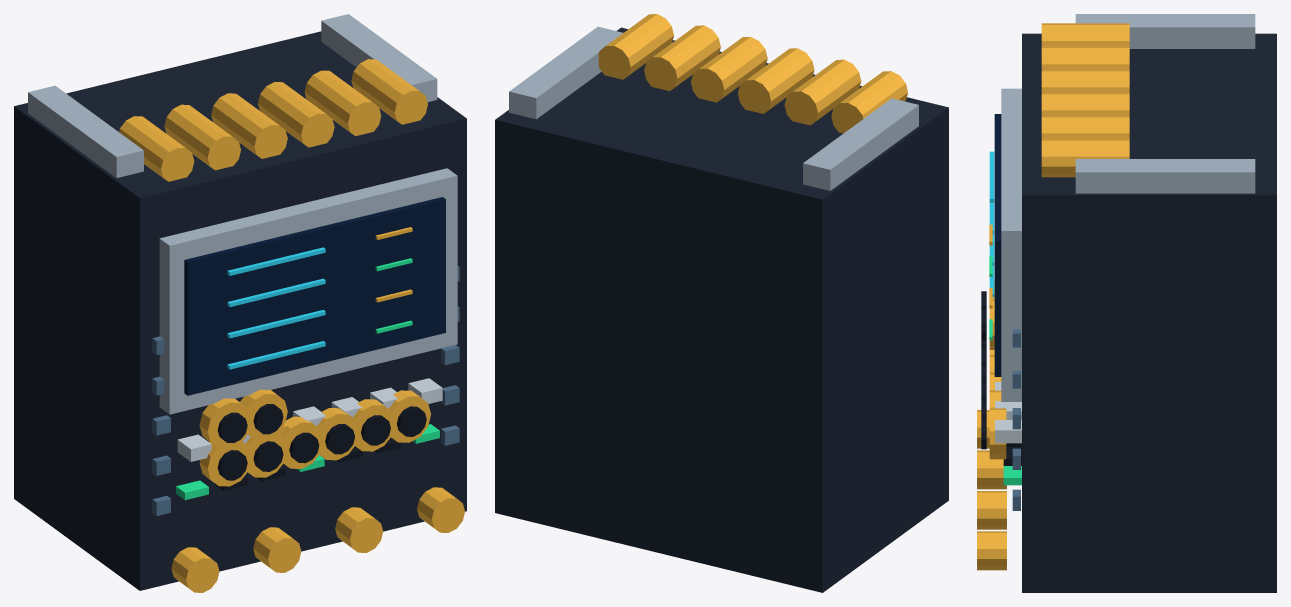
File: 32_L85_ThrusterValveDriverRack.fbx
The picture shows the model from 3 angles, left to right: view 1: azimuth 30°, elevation 25°; view 2: azimuth 150°, elevation 25°; view 3: azimuth 270°, elevation 25°; orthographic projection.
Parts seen in each view (by area): view 1: L85_ThrusterValveDriverRack, L85_ThrusterValveDriverRack_Part_0022, L85_ThrusterValveDriverRack_Part_0010, L85_ThrusterValveDriverRack_Part_0016, L85_ThrusterValveDriverRack_Part_0020, L85_ThrusterValveDriverRack_Part_0024, L85_ThrusterValveDriverRack_Part_0018, L85_ThrusterValveDriverRack_Part_0014, L85_ThrusterValveDriverRack_Part_0012, L85_ThrusterValveDriverRack_Part_0017, L85_ThrusterValveDriverRack_Part_0013, L85_ThrusterValveDriverRack_Part_0019 (+5 smaller); view 2: L85_ThrusterValveDriverRack; view 3: L85_ThrusterValveDriverRack, L85_ThrusterValveDriverRack_Part_0020.
Part boxes in pixels (<box>): L85_ThrusterValveDriverRack: <box>14,14,466,592</box>; L85_ThrusterValveDriverRack_Part_0022: <box>199,398,251,448</box>; L85_ThrusterValveDriverRack_Part_0010: <box>199,440,251,486</box>; L85_ThrusterValveDriverRack_Part_0016: <box>316,408,359,460</box>; L85_ThrusterValveDriverRack_Part_0020: <box>388,390,430,442</box>; L85_ThrusterValveDriverRack_Part_0024: <box>240,389,287,439</box>; L85_ThrusterValveDriverRack_Part_0018: <box>353,399,394,451</box>; L85_ThrusterValveDriverRack_Part_0014: <box>281,416,323,468</box>; L85_ThrusterValveDriverRack_Part_0012: <box>245,431,287,477</box>; L85_ThrusterValveDriverRack_Part_0017: <box>325,424,354,454</box>; L85_ThrusterValveDriverRack_Part_0013: <box>253,441,283,471</box>; L85_ThrusterValveDriverRack_Part_0019: <box>361,415,390,445</box>; L85_ThrusterValveDriverRack: <box>495,14,948,592</box>; L85_ThrusterValveDriverRack: <box>977,14,1276,592</box>; L85_ThrusterValveDriverRack_Part_0020: <box>989,407,1006,459</box>.
Size of the model in its own units: 95.88 by 119 by 75.2.
